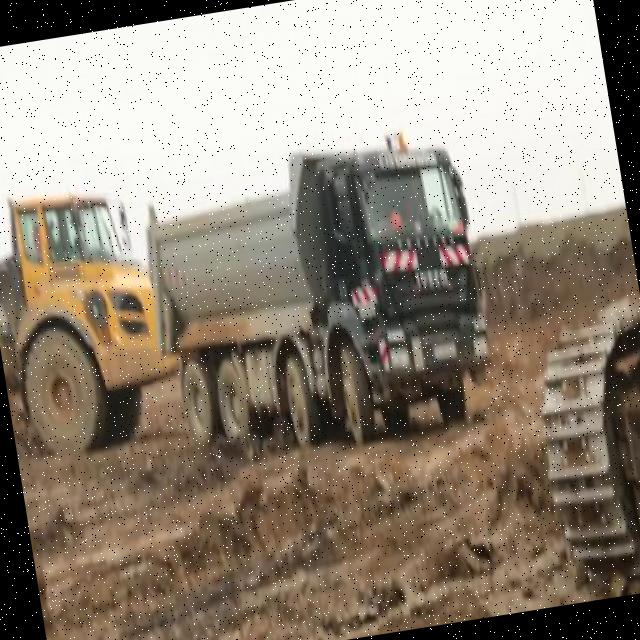Dump Truck: (130, 123, 502, 476), (0, 171, 194, 465)
